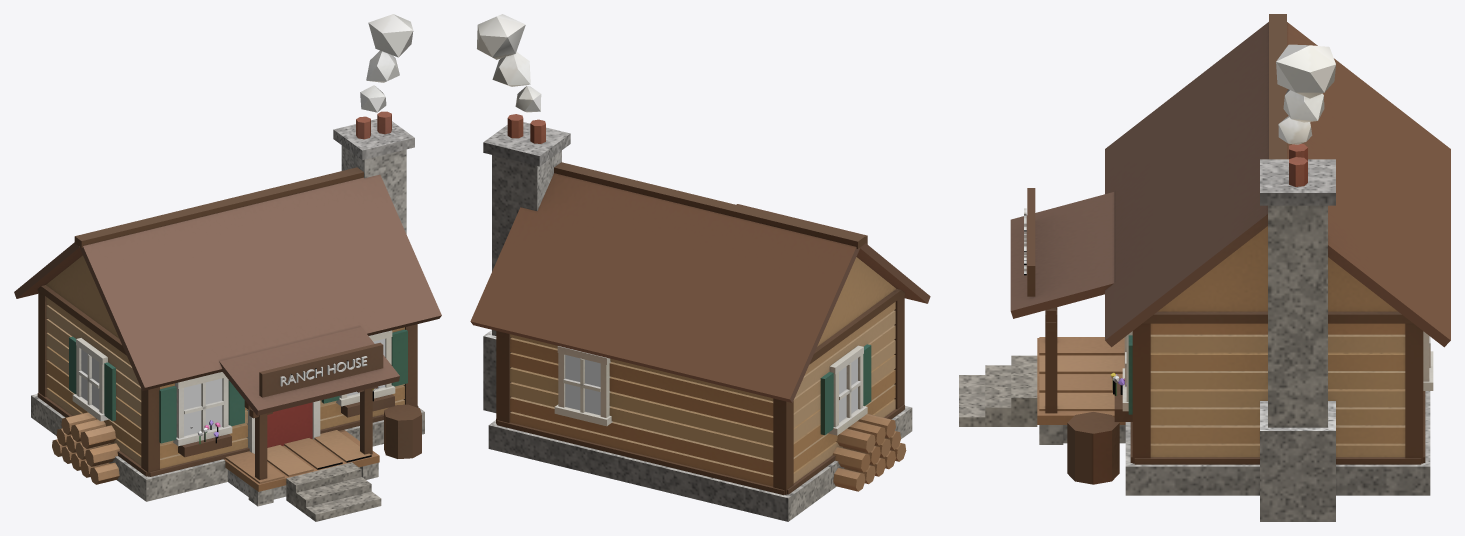
Rendered from home_house_1.fbx.
3 renders of one model, left to right at view 1: azimuth 30°, elevation 25°; view 2: azimuth 150°, elevation 25°; view 3: azimuth 270°, elevation 25°, orthographic. The views are drawn at different scales.
Visible parts, largest first — view 1: home_house_1_body, home_house_1_body_glow; view 2: home_house_1_body, home_house_1_body_glow; view 3: home_house_1_body.
Boxes of the visible parts, x1,y1,x2,y2 form: home_house_1_body: (14,14,441,521); home_house_1_body_glow: (81,339,385,435); home_house_1_body: (470,14,930,521); home_house_1_body_glow: (565,355,857,422); home_house_1_body: (959,14,1450,521).
Size of the model in its own units: 2704 by 2614 by 2453.
2 materials, 1 textured.
